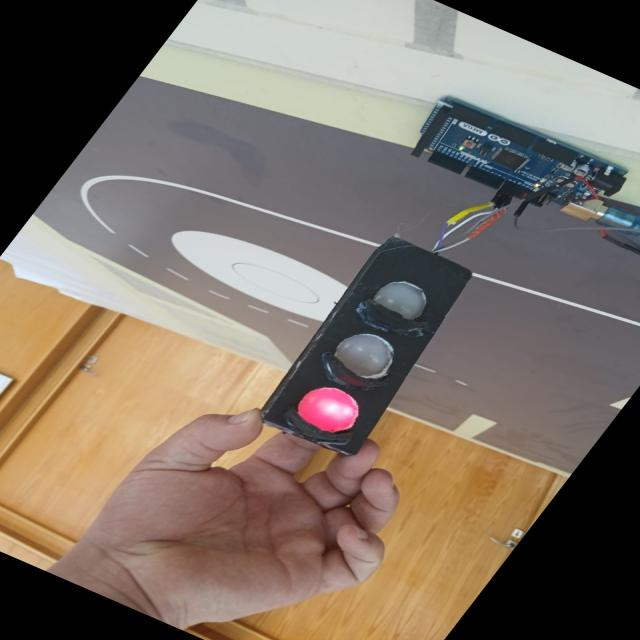red: (297, 388, 359, 433)
trafic lights: (261, 236, 471, 454)
